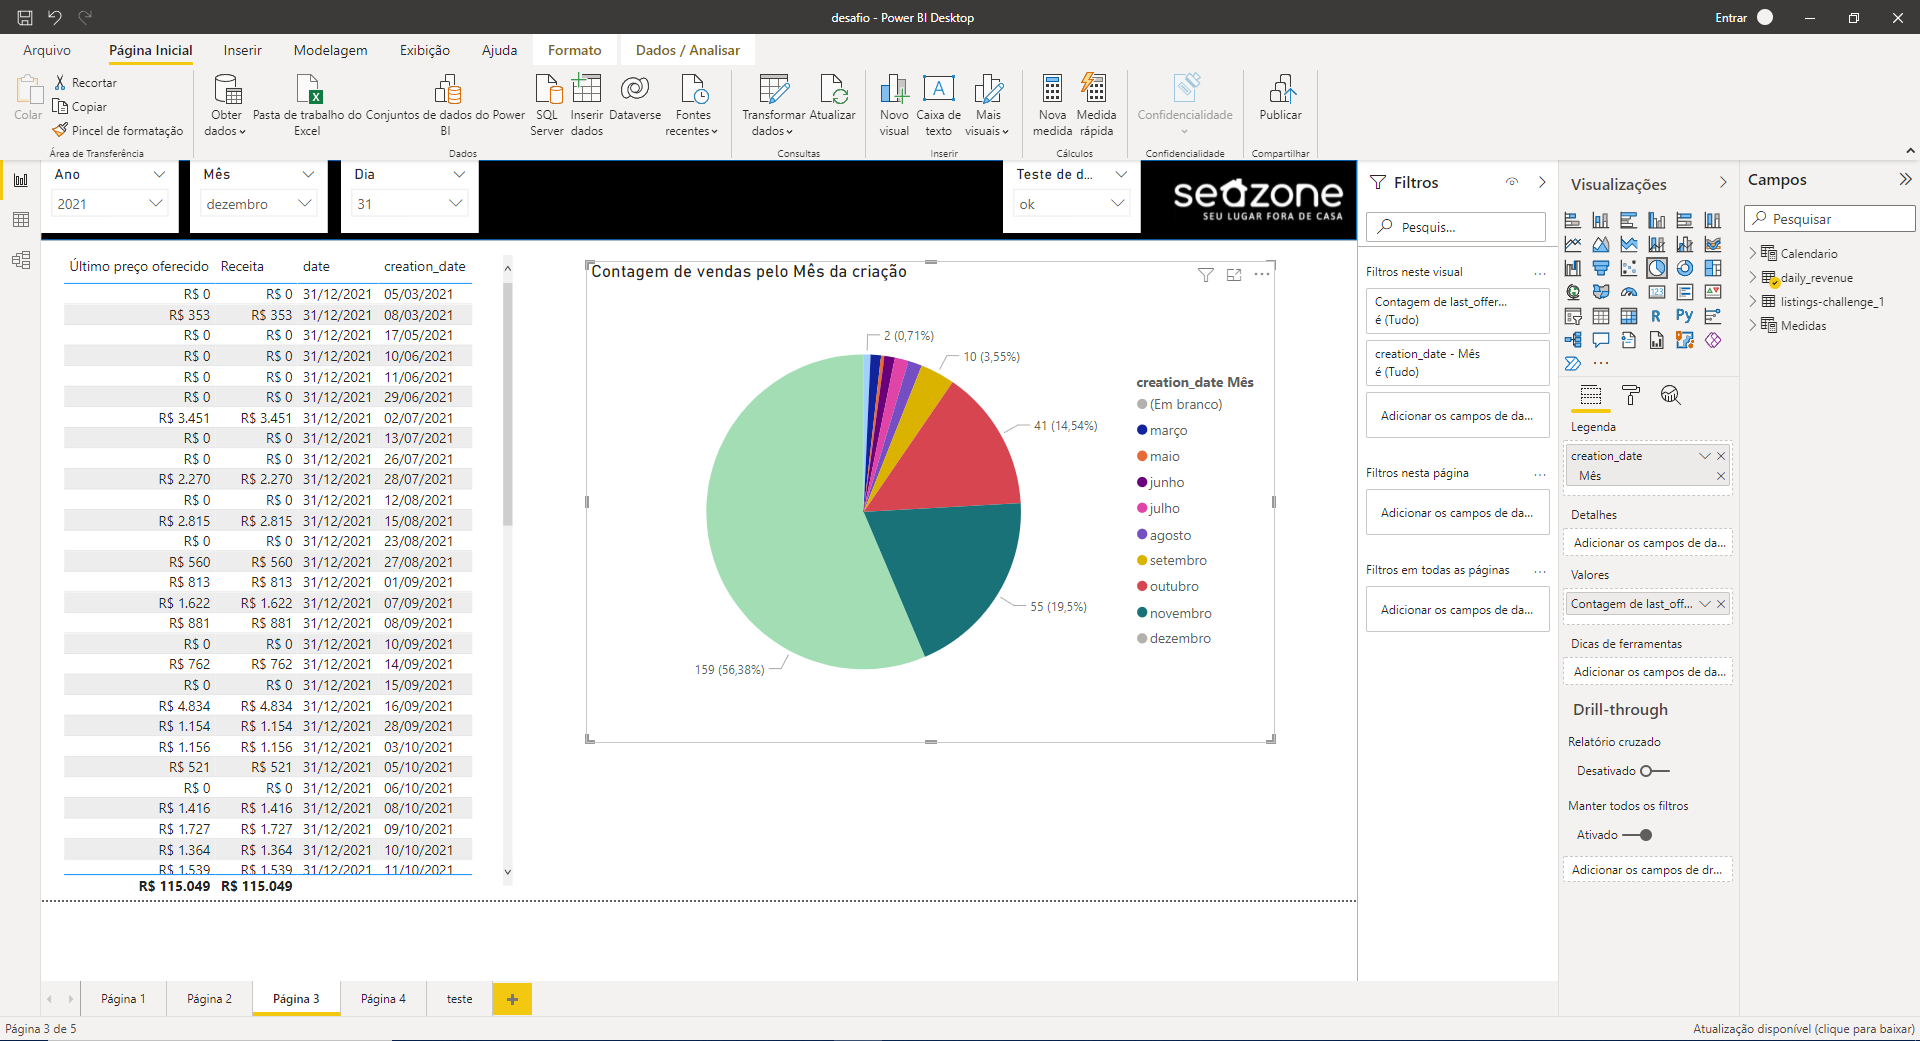

This screenshot's page, from the dashboard's own definition file:
{"tool":"powerbi","page":{"name":"Página 3","canvas":[1280,720],"ordinal":2},"visuals":[{"type":"tableEx","fields":{"Values":["Sum(daily_revenue.last_offered_price)","Sum(daily_revenue.revenue)","daily_revenue.date","daily_revenue.creation_date"]},"box":[16.5,87.5,447.4,632.2],"z":0},{"type":"shape","box":[0,0,1280,77.8],"z":1000},{"type":"slicer","fields":{"Values":["Calendario.Date.Variation.Hierarquia de datas.Ano"]},"box":[0,0,134.2,71],"z":2000},{"type":"image","box":[1097.1,0,175.1,77.8],"z":3000},{"type":"slicer","fields":{"Values":["daily_revenue.teste"]},"box":[935.7,0,134.2,71],"z":4000},{"type":"slicer","fields":{"Values":["Calendario.Date.Variation.Hierarquia de datas.Mês"]},"box":[144.9,0,134.2,71],"z":5000},{"type":"slicer","fields":{"Values":["Calendario.Date.Variation.Hierarquia de datas.Dia"]},"box":[291.8,0,134.2,71],"z":6000},{"type":"pieChart","title":"Contagem de vendas pelo Mês da criação","fields":{"Category":["daily_revenue.creation_date.Variation.Hierarquia de datas.Mês"],"Y":["CountNonNull(daily_revenue.last_offered_price)"]},"box":[530.1,98.2,670.2,468.8],"z":7000}]}

Visuals, with their boxes on the page's 1280x720 design canvas (x1, y1, x2, y2). These are canvas units, not pixel positions in the 1920x1041 screenshot, which may show the page scaled, cropped or inside an application window:
tableEx - Sum(daily_revenue.last_offered_price) x Sum(daily_revenue.revenue): Rect(16, 88, 464, 720)
shape: Rect(0, 0, 1280, 78)
slicer - Calendario.Date.Variation.Hierarquia de datas.Ano: Rect(0, 0, 134, 71)
image: Rect(1097, 0, 1272, 78)
slicer - daily_revenue.teste: Rect(936, 0, 1070, 71)
slicer - Calendario.Date.Variation.Hierarquia de datas.Mês: Rect(145, 0, 279, 71)
slicer - Calendario.Date.Variation.Hierarquia de datas.Dia: Rect(292, 0, 426, 71)
"Contagem de vendas pelo Mês da criação" pieChart: Rect(530, 98, 1200, 567)
